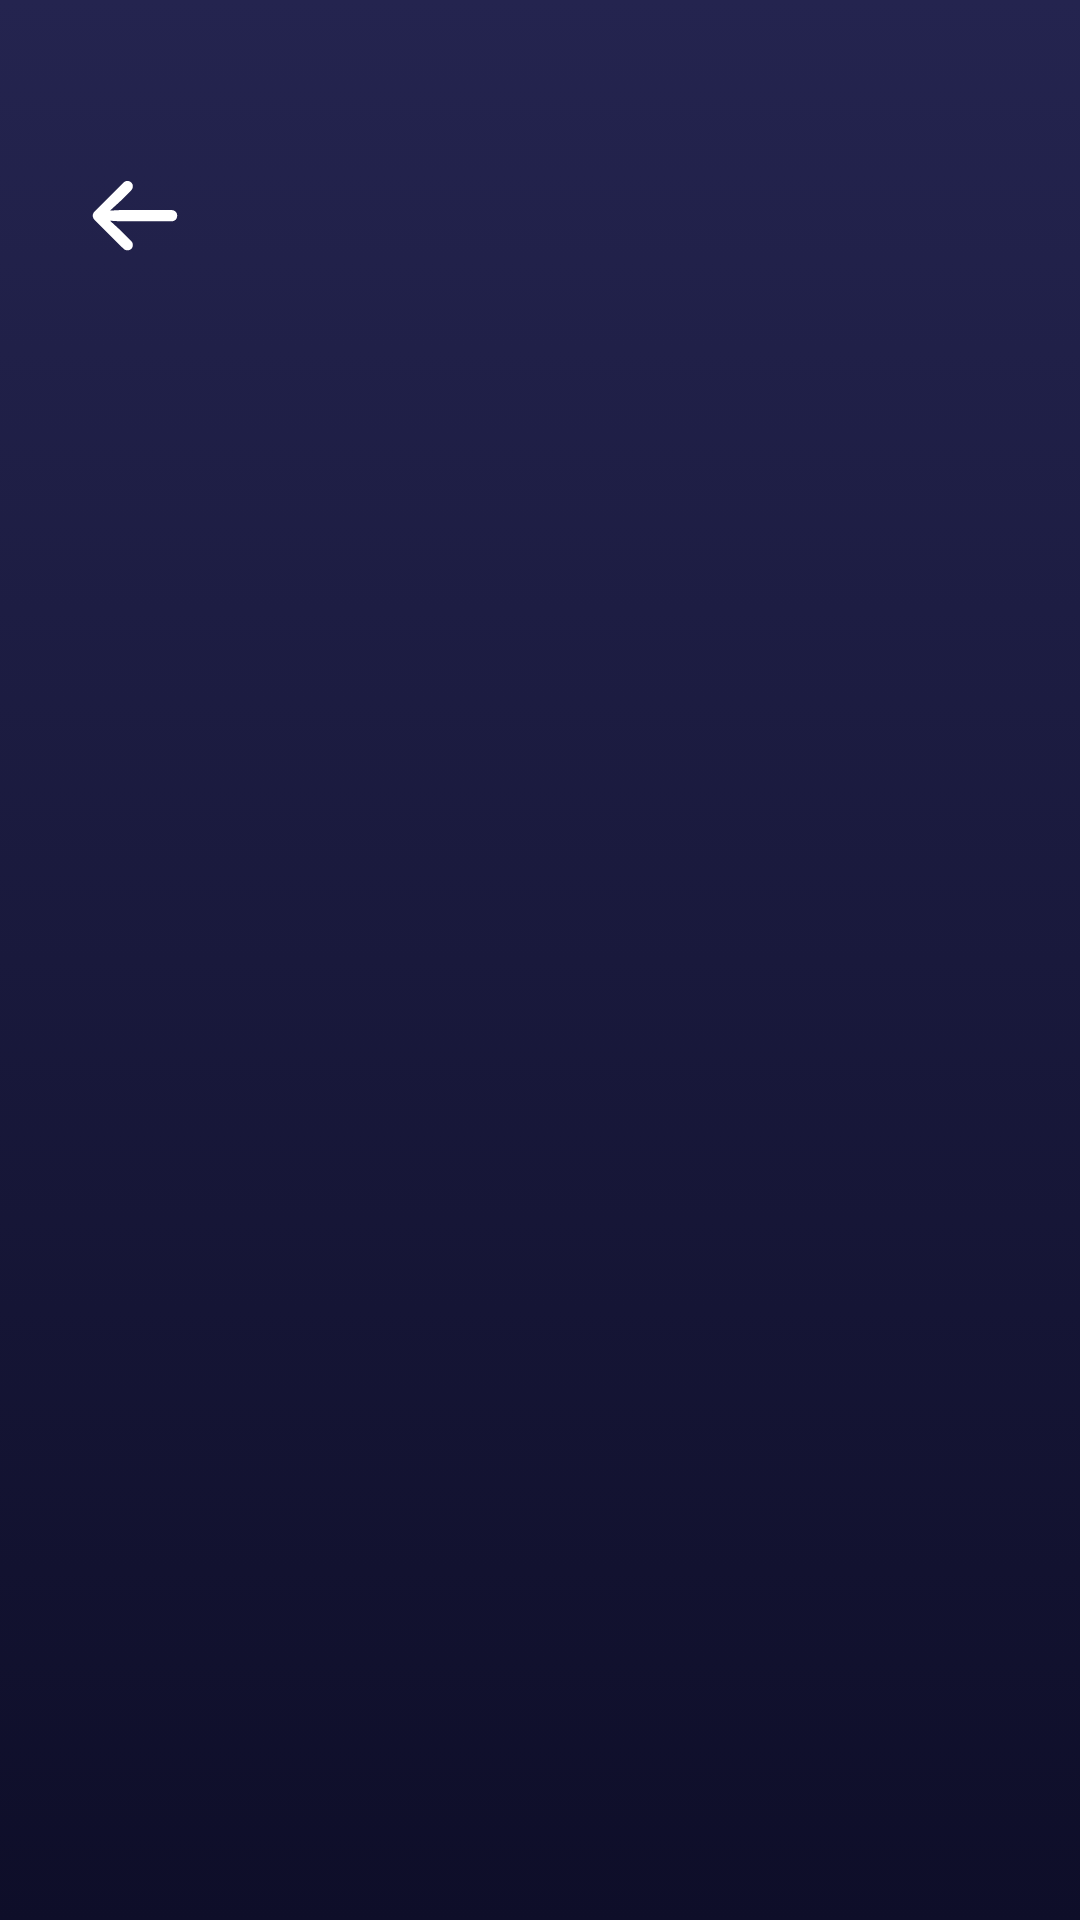

Named icons in this screenshot (1080px x 1920px) and their bounding boxes, [left=x1, top=y1, right=x2, bottom=y2]:
back arrow: [left=92, top=181, right=178, bottom=251]
